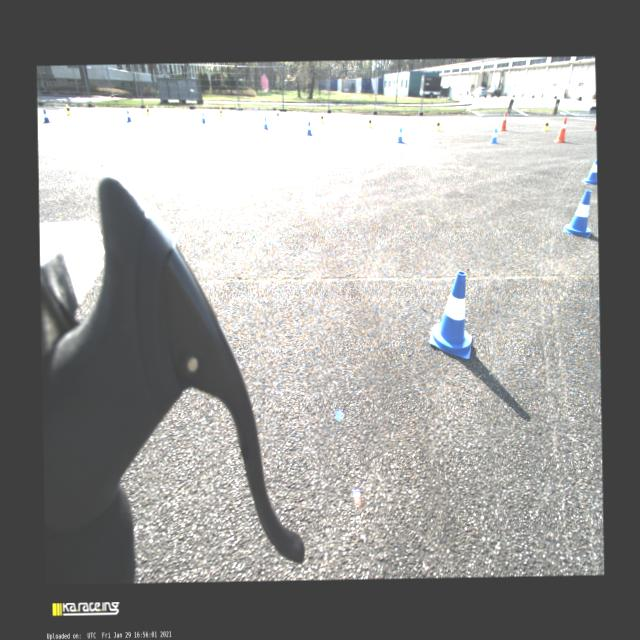blue_cone: (428, 270, 472, 359), (562, 190, 590, 238), (581, 158, 597, 185), (42, 108, 51, 124), (489, 128, 498, 144), (396, 126, 404, 142), (306, 120, 312, 136), (126, 109, 132, 122), (263, 116, 268, 130), (201, 111, 206, 123)
large_orange_cone: (552, 117, 566, 142), (498, 111, 507, 131)
yellow_cone: (64, 104, 72, 115), (541, 118, 548, 130), (434, 119, 440, 131), (367, 117, 372, 128), (146, 104, 150, 116), (320, 112, 324, 124), (276, 109, 280, 120), (220, 106, 222, 118)
